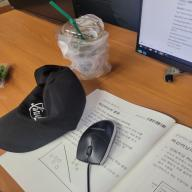mouse: (77, 119, 118, 166)
